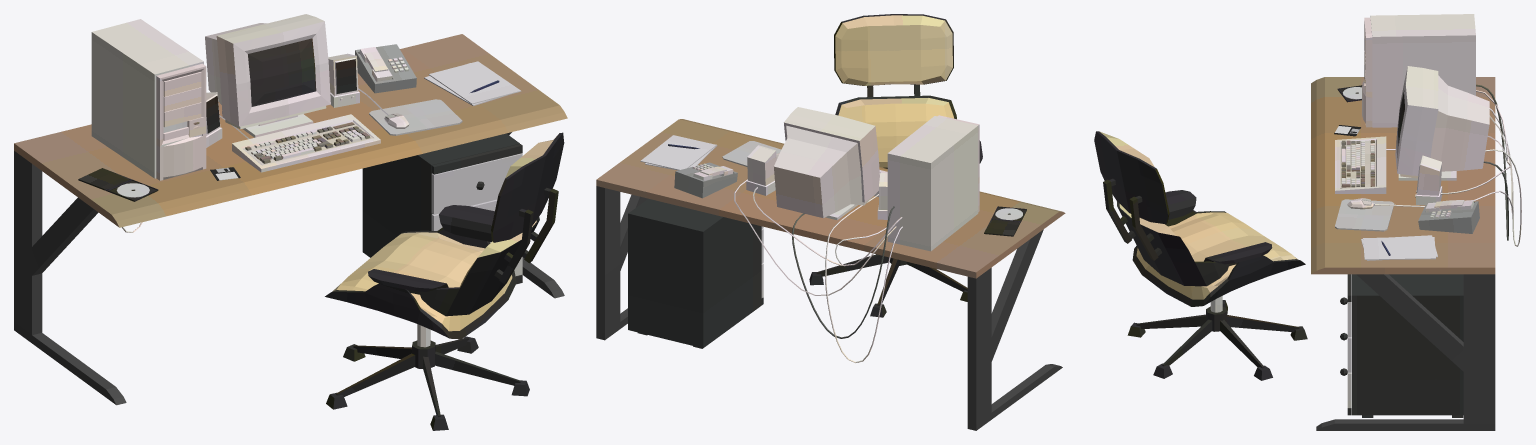
The model's file is computer-optimized-transformed-transformed.glb.
The picture shows the model from 3 angles, left to right: view 1: azimuth 30°, elevation 25°; view 2: azimuth 150°, elevation 25°; view 3: azimuth 270°, elevation 25°; orthographic projection. The views are drawn at different scales.
Visible parts, largest first — view 1: Cube.000_ComputerDesk_0.001; view 2: Cube.000_ComputerDesk_0.001; view 3: Cube.000_ComputerDesk_0.001.
Part boxes in pixels (x1,y1,x2,y2): Cube.000_ComputerDesk_0.001: [14, 14, 567, 430]; Cube.000_ComputerDesk_0.001: [596, 14, 1065, 430]; Cube.000_ComputerDesk_0.001: [1094, 14, 1521, 430].
Bounding box in the file's own units: 188 × 116 × 178.
Materials: 2 (2 with a texture image).
